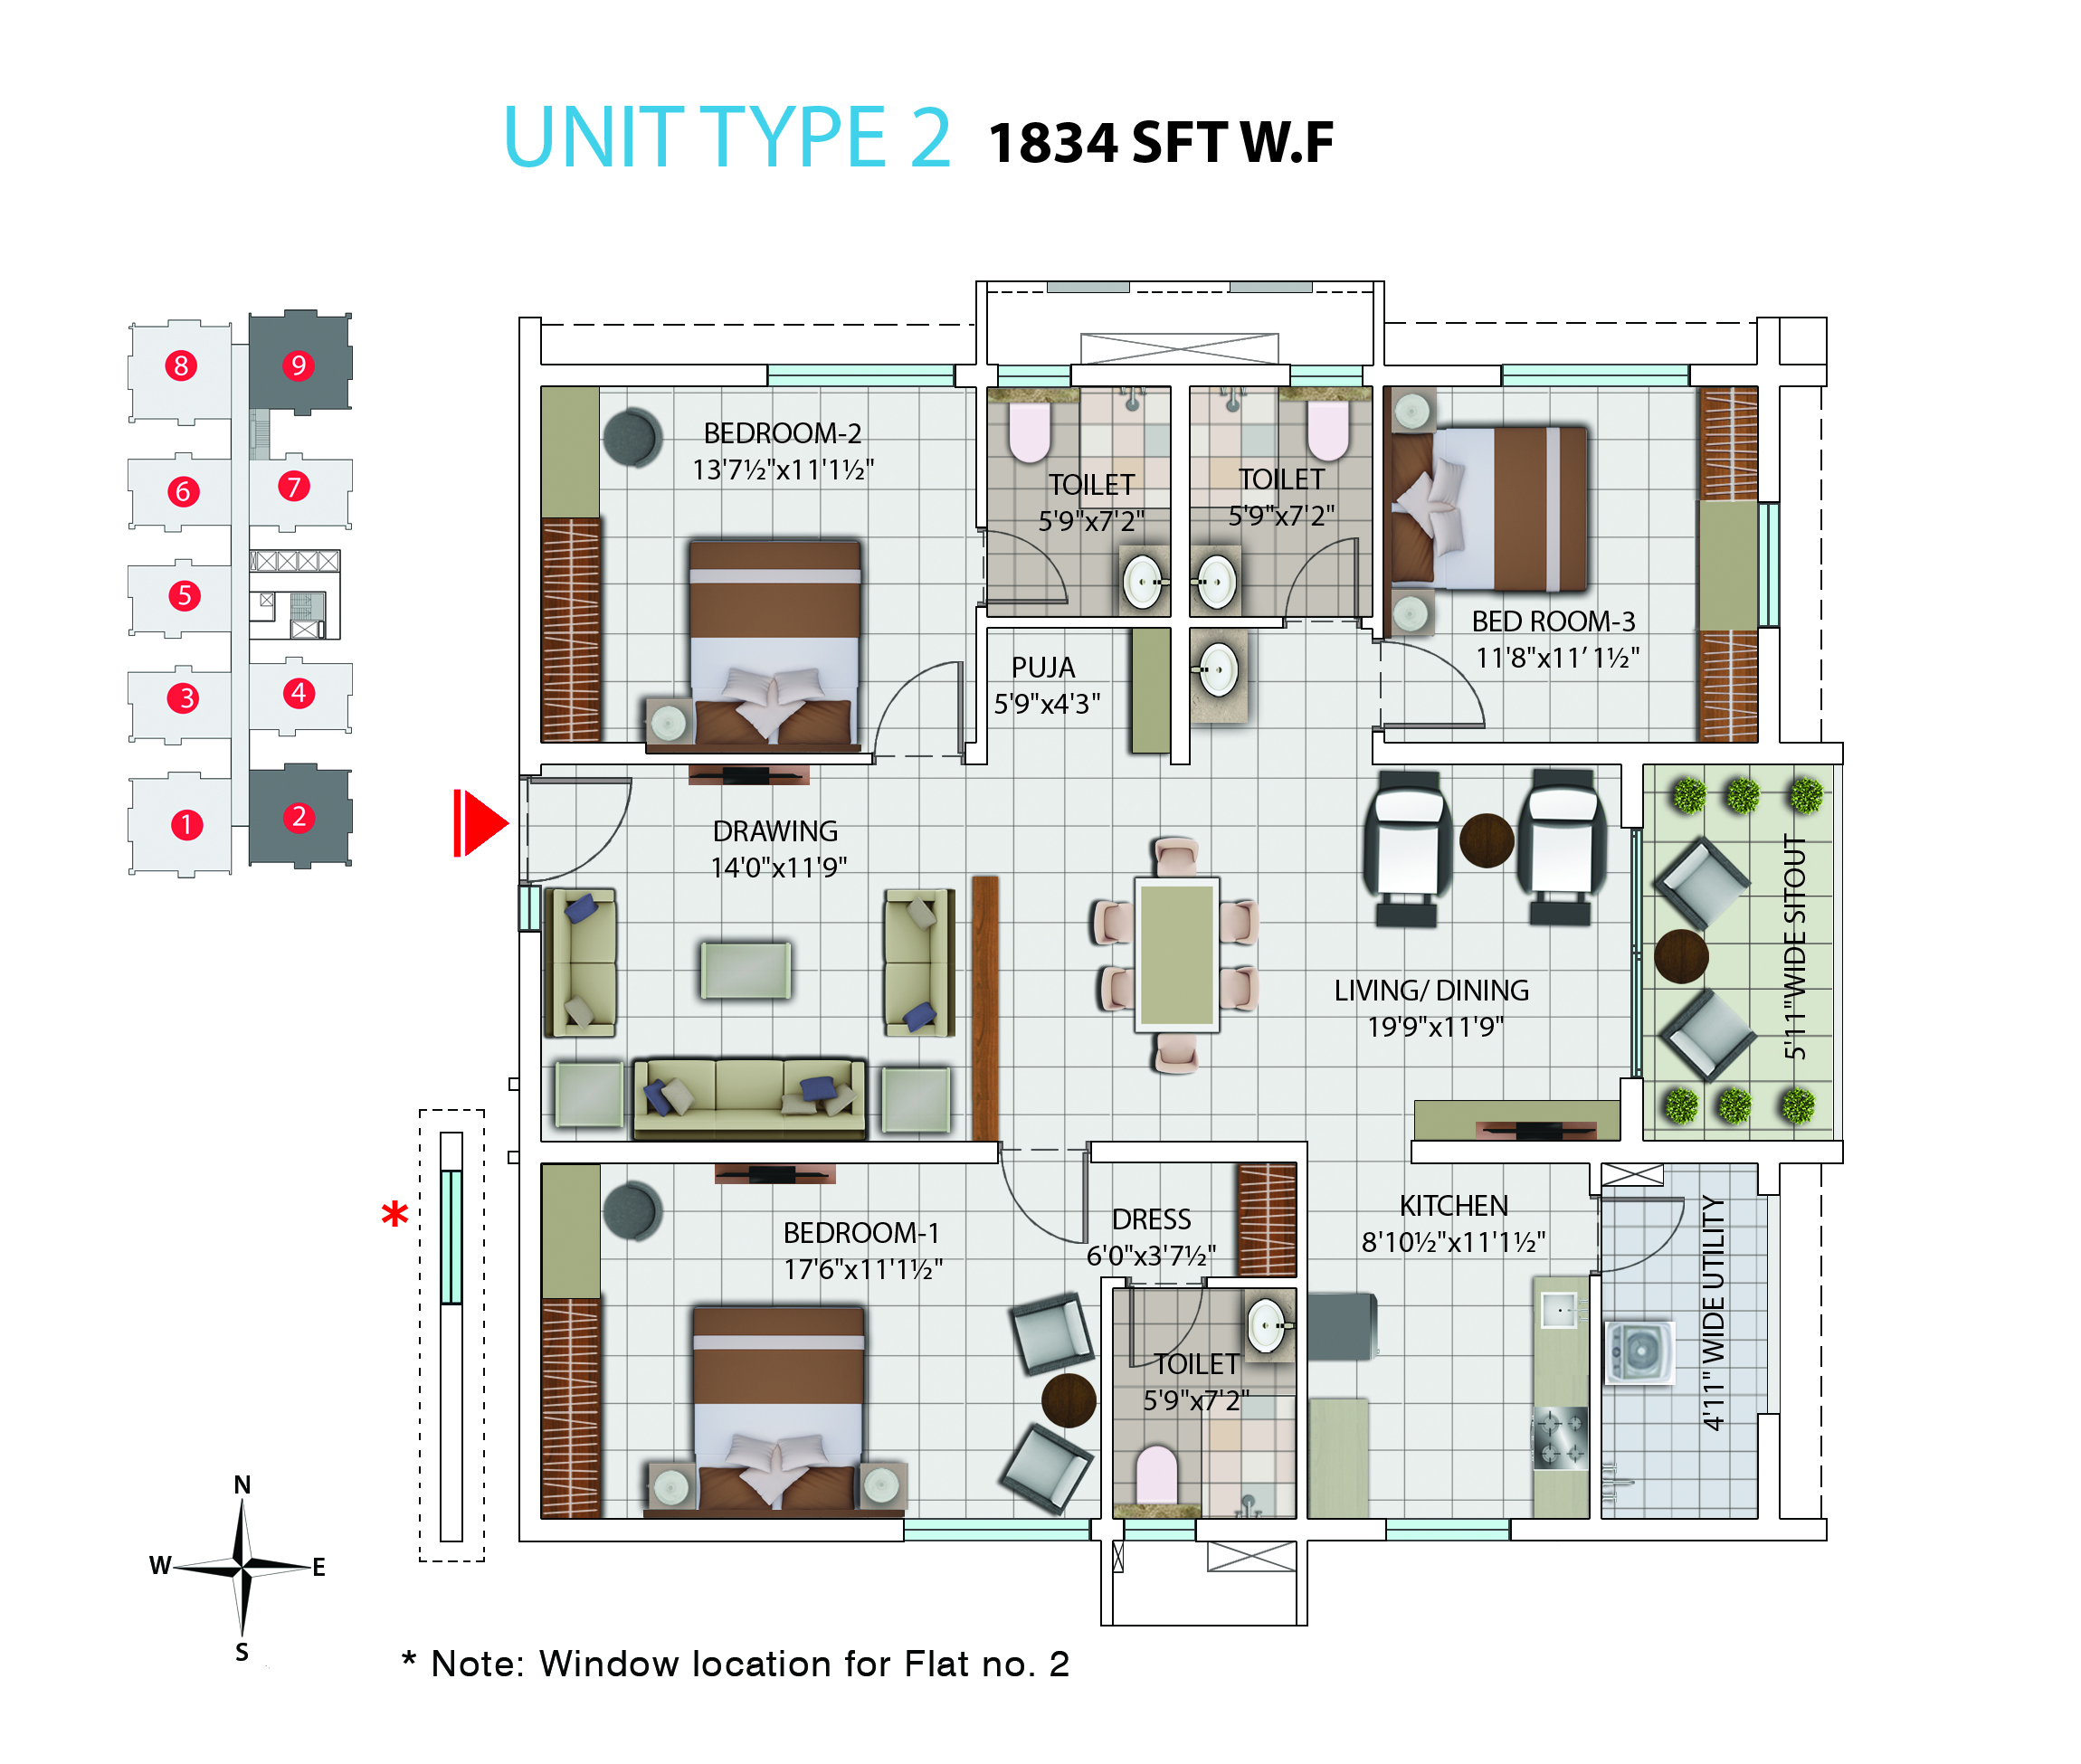window: (1496, 362, 1694, 390), (901, 1515, 1090, 1543), (765, 362, 957, 388), (1383, 1515, 1516, 1543), (1755, 497, 1782, 632), (994, 362, 1075, 390), (1286, 362, 1367, 390), (1122, 1517, 1202, 1545)
